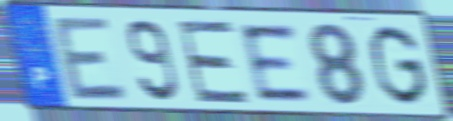8: (307, 20, 368, 108)
9: (127, 18, 180, 103)
E: (49, 14, 133, 103), (174, 19, 253, 106), (236, 22, 315, 104)
G: (368, 22, 432, 109)
